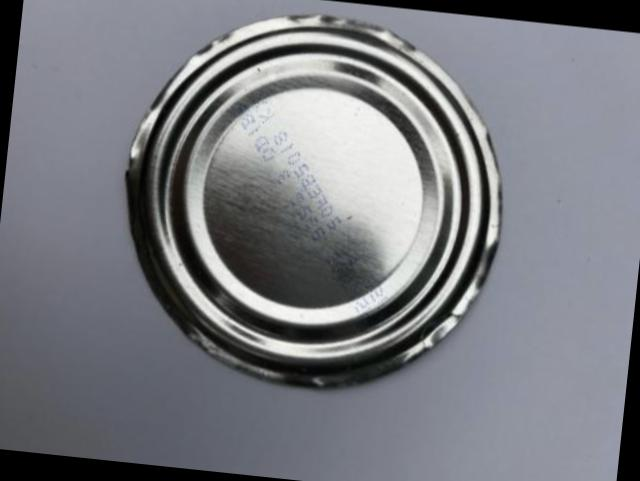metal: (129, 13, 503, 384)
